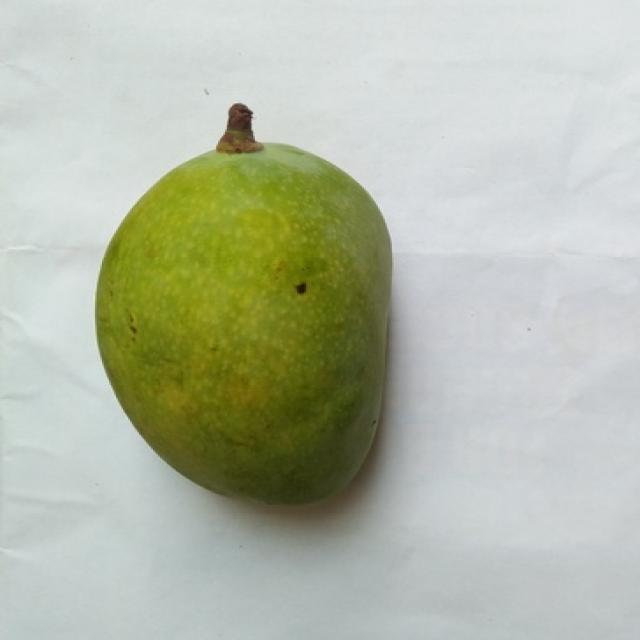Mango: (97, 111, 389, 504)
